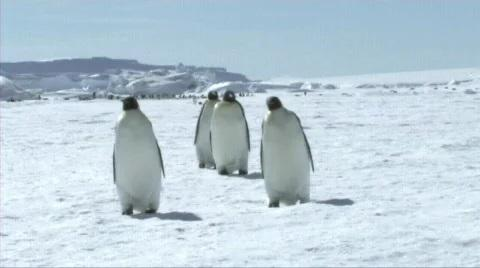emporer: (253, 89, 341, 226), (97, 83, 181, 220), (199, 80, 272, 186)
